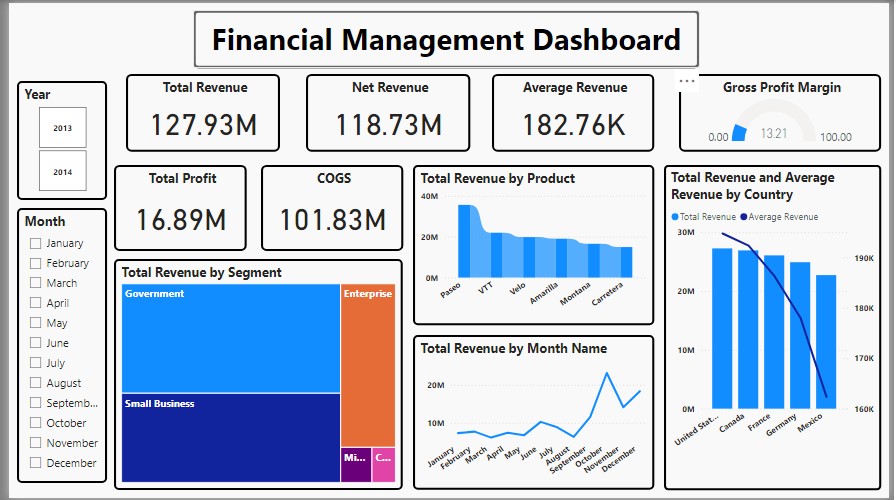

Layout of this report page (visuals, bound fields, positions):
{"tool":"powerbi","page":{"name":"Page 1","canvas":[1280,720],"ordinal":0},"visuals":[{"type":"slicer","title":"Year","fields":{"Values":["Sheet1 (2).Year"]},"box":[11.6,113.5,130.9,173.1],"z":0},{"type":"slicer","title":"Month","fields":{"Values":["Sheet1 (2).Month Name"]},"box":[11.6,298.2,130.9,400],"z":1000},{"type":"card","title":"Total Revenue","fields":{"Values":["Measure.Total Revenue"]},"box":[170.2,103.3,224,113.5],"z":2000},{"type":"treemap","fields":{"Values":["Measure.Total Revenue"],"Group":["Sheet1 (2).Segment"]},"box":[152.7,372.4,420.4,336],"z":3000},{"type":"gauge","fields":{"Y":["Measure.Gross Profit Margin"]},"box":[974.5,103.3,293.8,113.5],"z":4000},{"type":"card","title":"Average Revenue","fields":{"Values":["Measure.Average Revenue"]},"box":[702.5,103.3,235.6,113.5],"z":5000},{"type":"lineClusteredColumnComboChart","fields":{"Category":["Sheet1 (2).Country"],"Y":["Measure.Total Revenue"],"Y2":["Measure.Average Revenue"]},"box":[952.7,235.6,315.6,472.7],"z":6000},{"type":"lineChart","fields":{"Category":["Sheet1 (2).Month Name"],"Y":["Measure.Total Revenue"]},"box":[587.6,482.9,350.5,225.5],"z":7000},{"type":"ribbonChart","fields":{"Category":["Sheet1 (2).Product"],"Y":["Measure.Total Revenue"]},"box":[587.6,235.6,350.5,232.7],"z":8000},{"type":"textbox","box":[267.6,10.2,737.5,85],"z":9000},{"type":"card","title":"Net Revenue","fields":{"Values":["Measure.Net Revenue"]},"box":[432,103.3,238.5,113.5],"z":10000},{"type":"card","title":"Total Profit","fields":{"Values":["Sum(Sheet1 (2).Profit)"]},"box":[152.7,235.6,193.5,125.1],"z":11000},{"type":"card","title":"COGS","fields":{"Values":["Sum(Sheet1 (2).COGS)"]},"box":[366.5,235.6,206.5,125.1],"z":12000}]}

Visuals, with their boxes in screenshot pixels (x1, y1, x2, y2), scaled from the page's 1280x720 canvas onto the 896x500 screenshot:
"Year" slicer: x1=8 y1=79 x2=100 y2=199
"Month" slicer: x1=8 y1=207 x2=100 y2=485
"Total Revenue" card: x1=119 y1=72 x2=276 y2=151
treemap - Measure.Total Revenue x Sheet1 (2).Segment: x1=107 y1=259 x2=401 y2=492
gauge - Measure.Gross Profit Margin: x1=682 y1=72 x2=888 y2=151
"Average Revenue" card: x1=492 y1=72 x2=657 y2=151
lineClusteredColumnComboChart - Sheet1 (2).Country x Measure.Total Revenue: x1=667 y1=164 x2=888 y2=492
lineChart - Sheet1 (2).Month Name x Measure.Total Revenue: x1=411 y1=335 x2=657 y2=492
ribbonChart - Sheet1 (2).Product x Measure.Total Revenue: x1=411 y1=164 x2=657 y2=325
textbox: x1=187 y1=7 x2=704 y2=66
"Net Revenue" card: x1=302 y1=72 x2=469 y2=151
"Total Profit" card: x1=107 y1=164 x2=242 y2=250
"COGS" card: x1=257 y1=164 x2=401 y2=250
